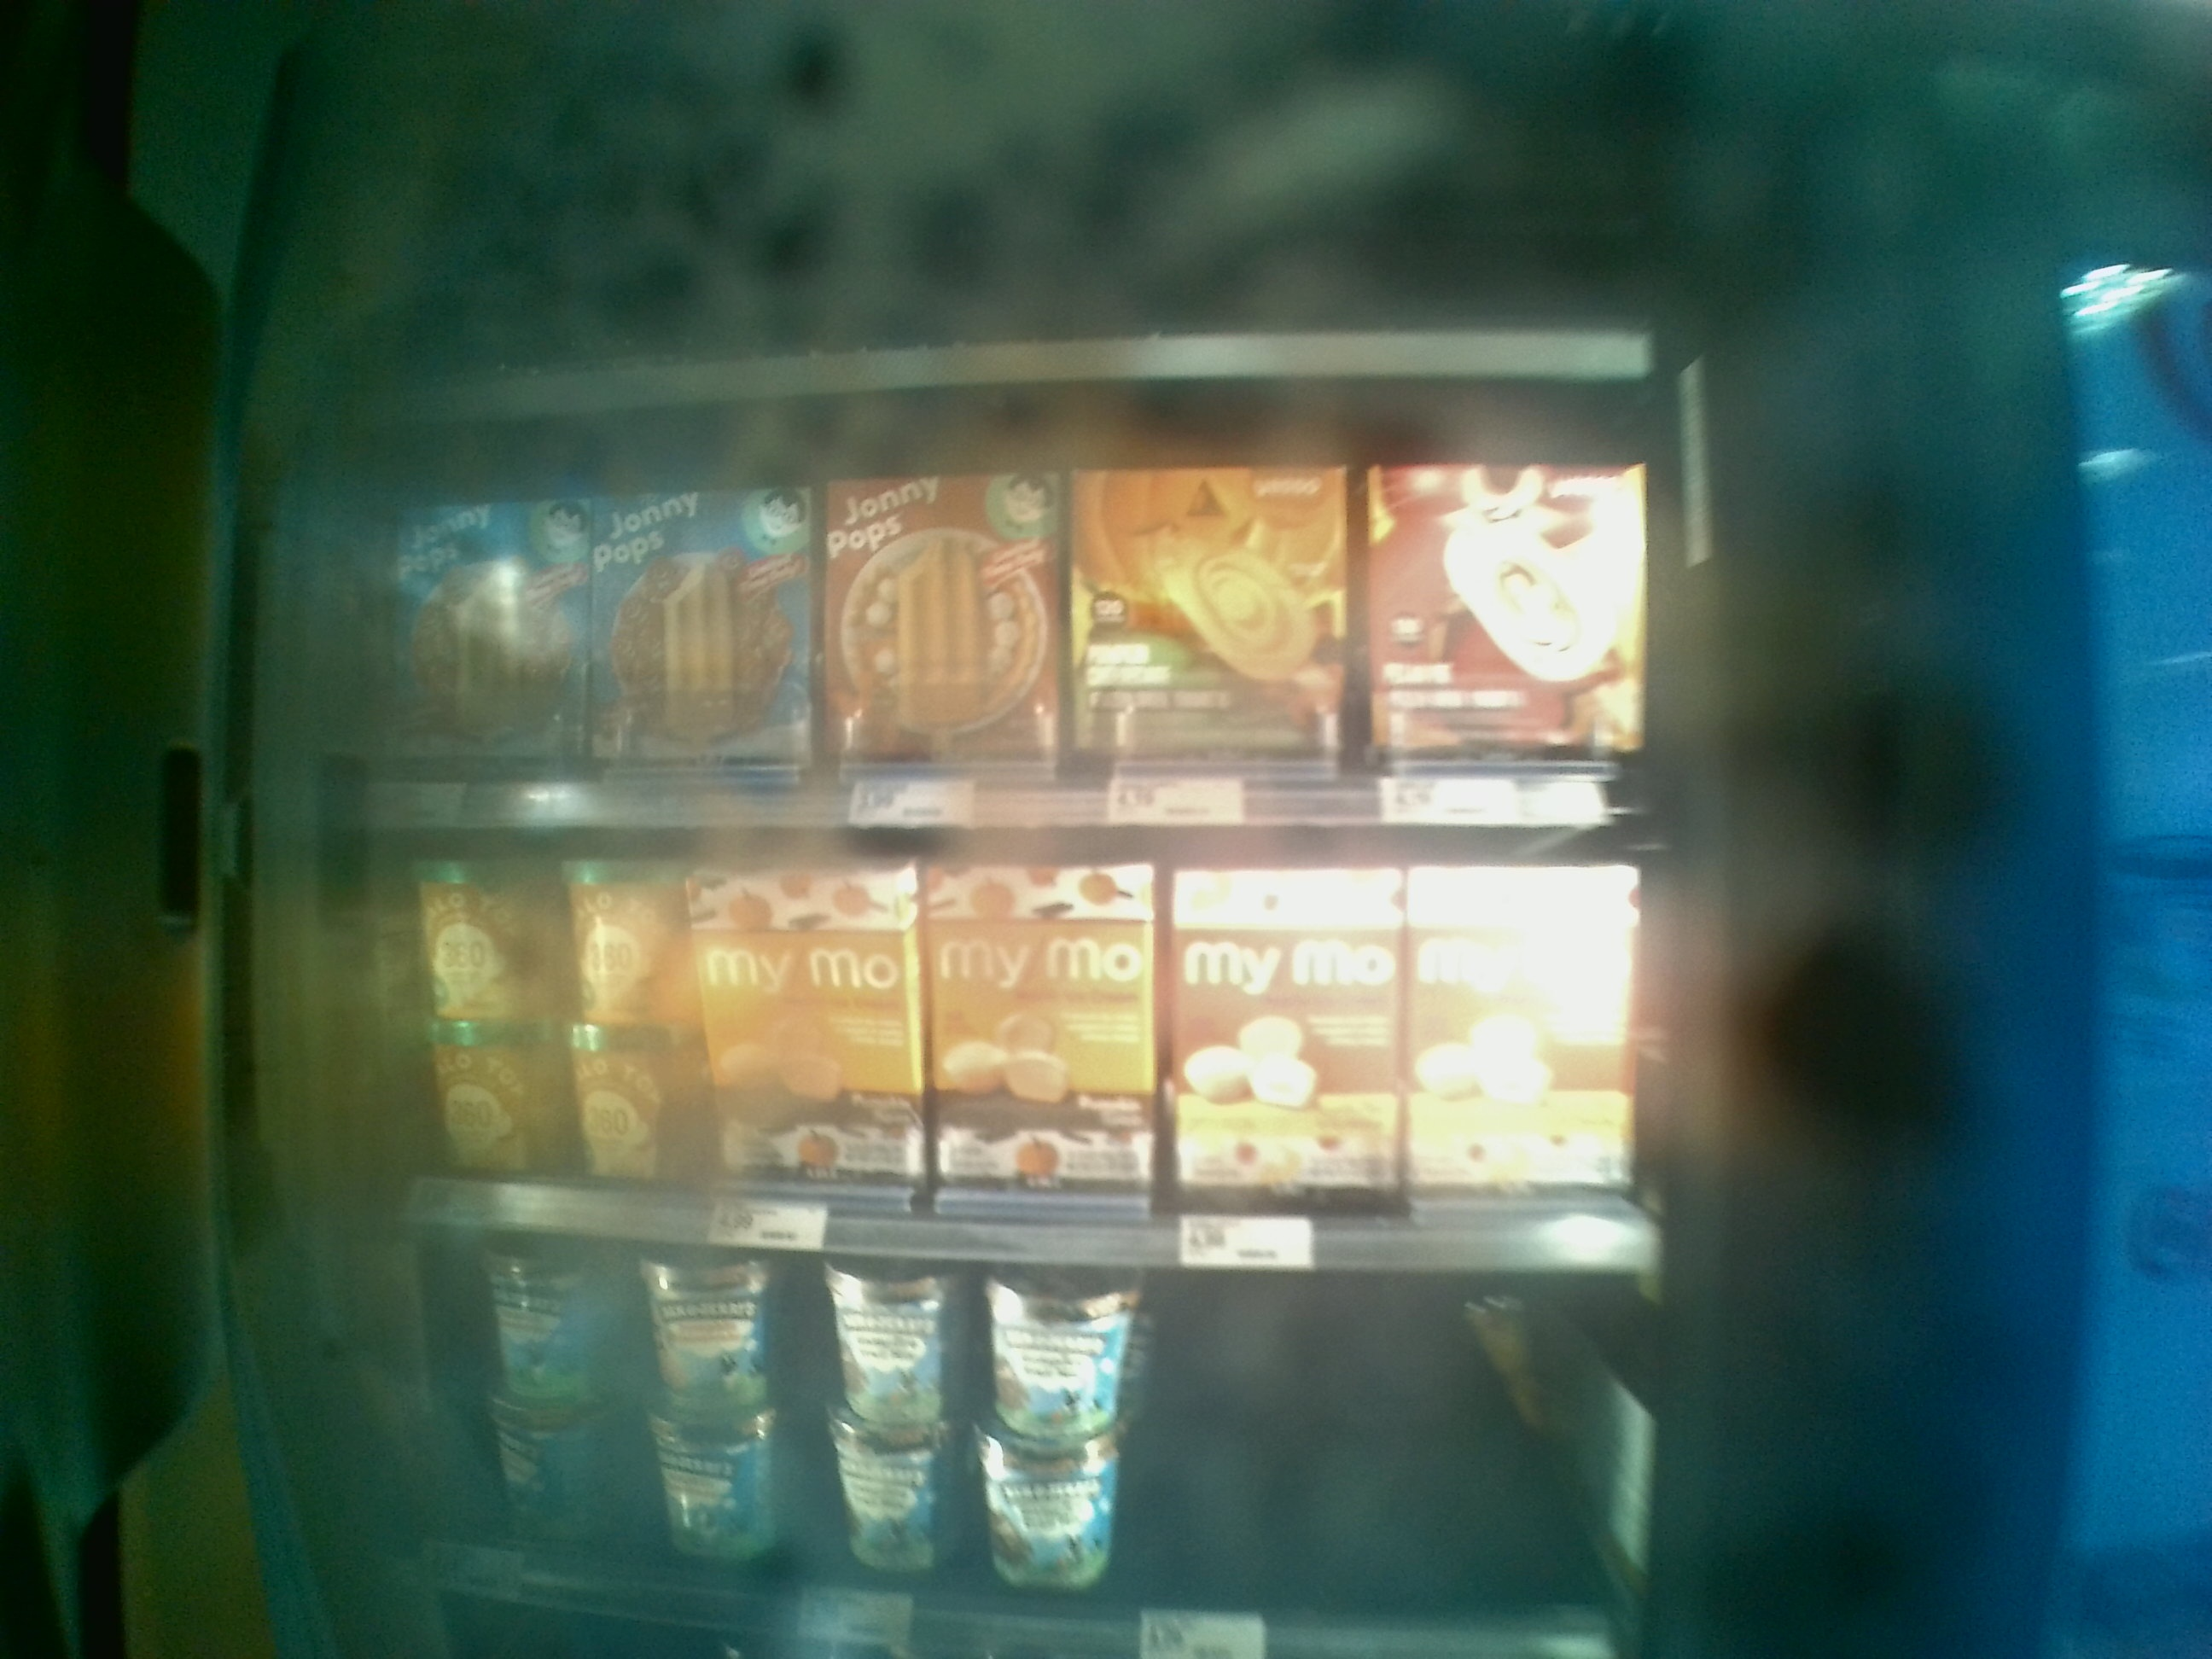shelf: (329, 798, 1649, 1267), (338, 1213, 1597, 1656), (289, 423, 1634, 817)
